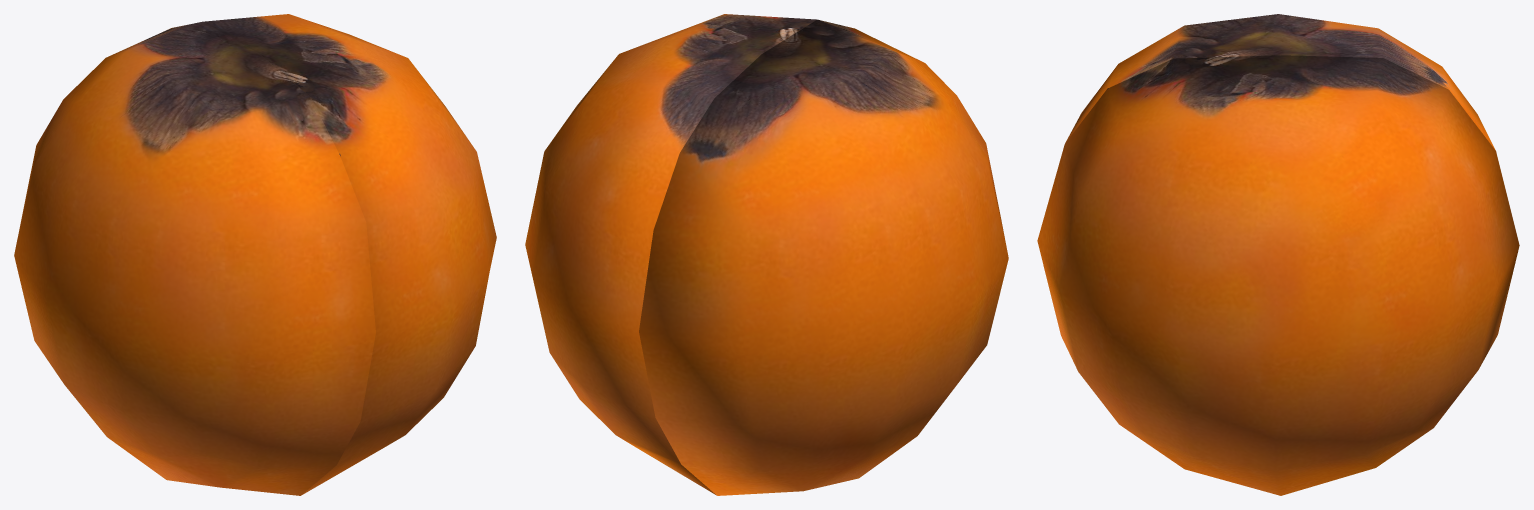
File: persimmon.fbx
3 views of the same model, side by side, from view 1: azimuth 30°, elevation 25°; view 2: azimuth 150°, elevation 25°; view 3: azimuth 270°, elevation 25° (orthographic).
Parts seen in each view (by area): view 1: persimmon_part, persimmon_part2; view 2: persimmon_part, persimmon_part2; view 3: persimmon_part2, persimmon_part.
Part boxes in pixels (box(x1,y1,x2,y2)): persimmon_part: box(14, 21, 375, 495); persimmon_part2: box(203, 14, 496, 494); persimmon_part: box(639, 19, 1008, 495); persimmon_part2: box(525, 14, 816, 495); persimmon_part2: box(1037, 55, 1519, 495); persimmon_part: box(1065, 14, 1495, 149).
Bounding box in the file's own units: 16.37 × 16.12 × 16.37.
